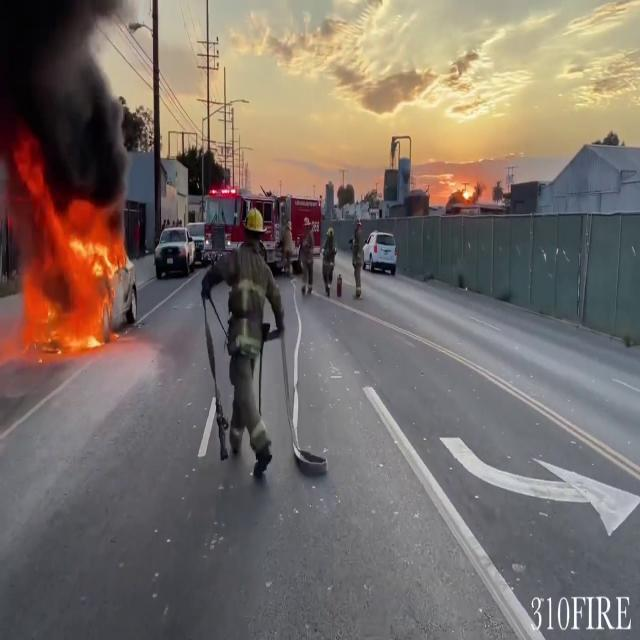Fire: (5, 187, 128, 353)
Smoke: (0, 0, 134, 214)
